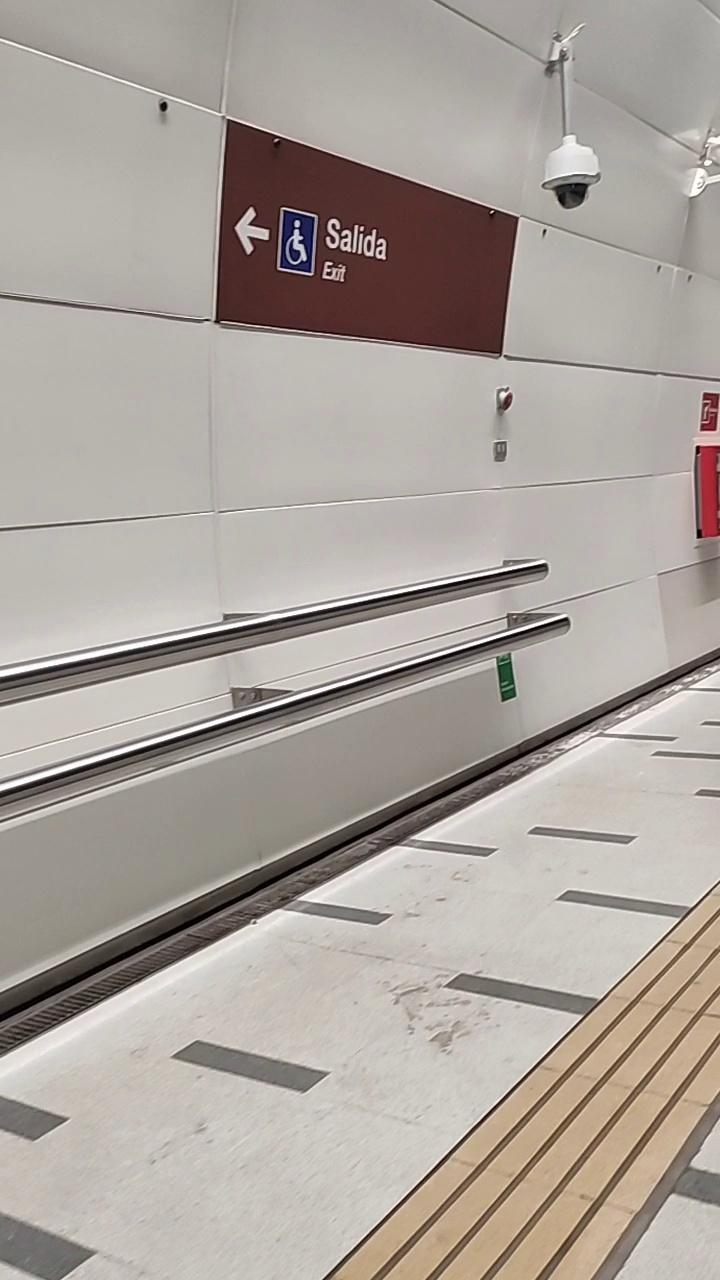handicapped symbol: (284, 218, 308, 266)
left arrow: (234, 206, 271, 256)
